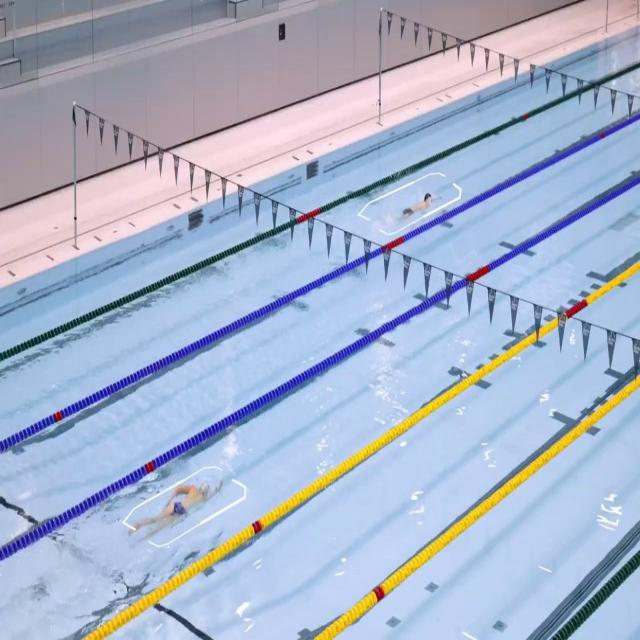Swimming: (128, 477, 224, 546), (381, 192, 443, 227)
